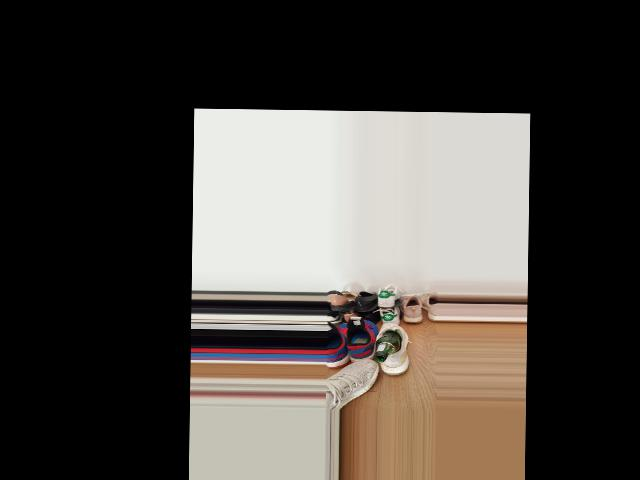beer: (374, 331, 401, 362)
